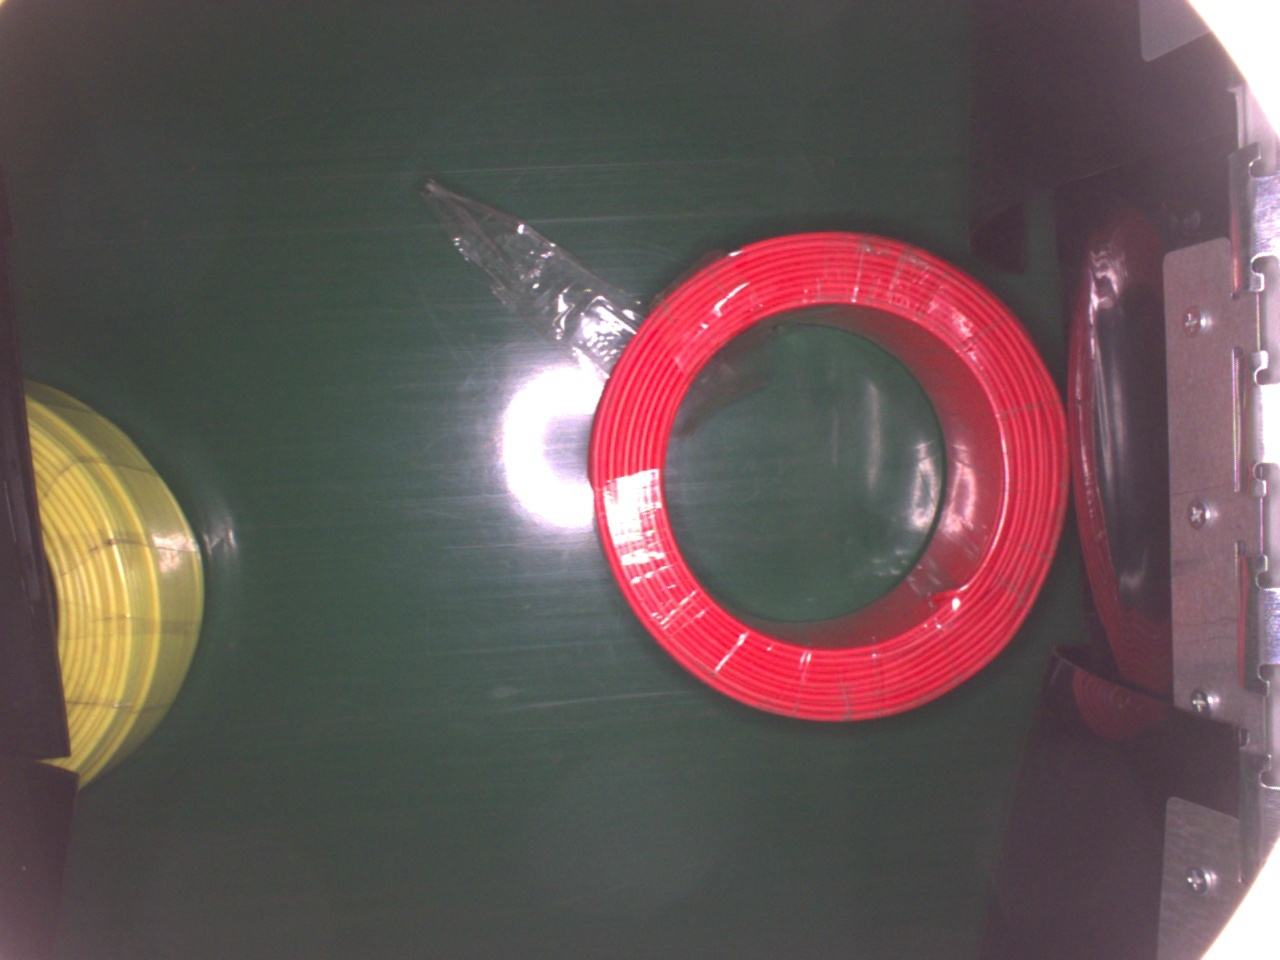red: (587, 231, 1069, 722)
yellow: (24, 374, 209, 786)
